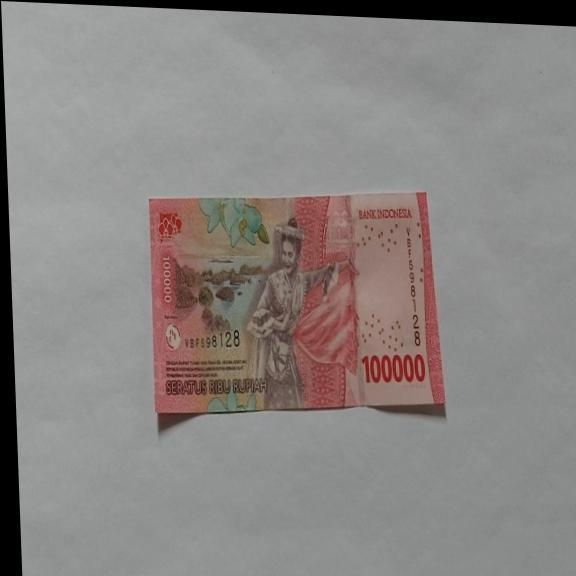Kertas: (145, 179, 446, 434), (360, 350, 426, 388)
